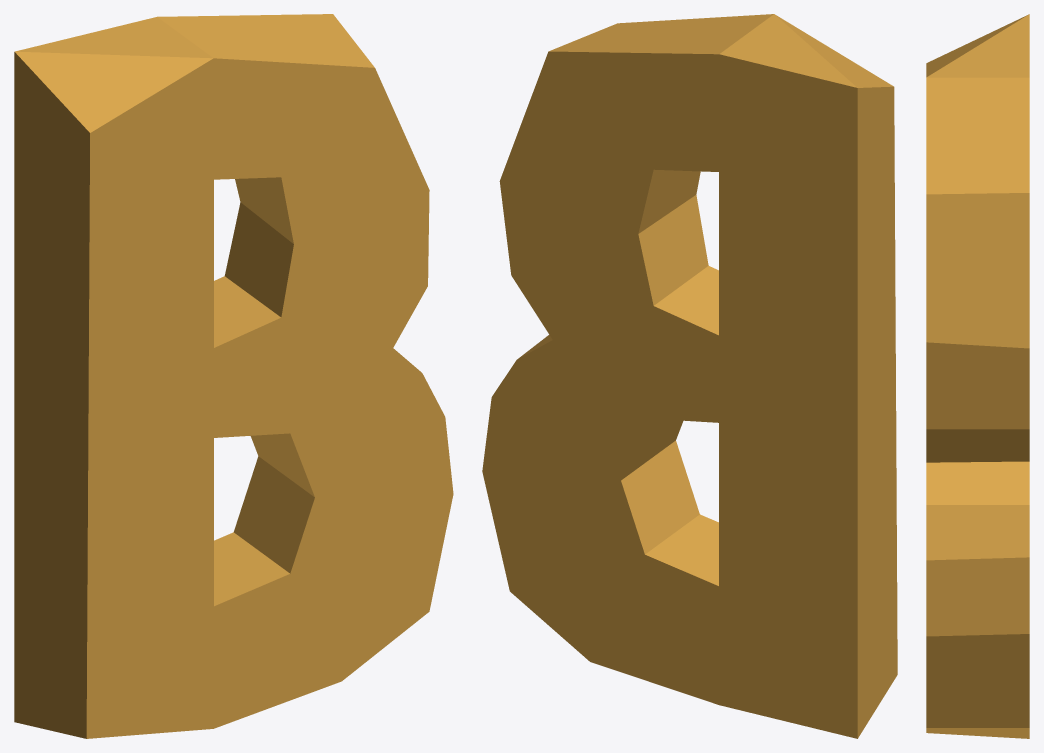
The model's file is SM_Sign_3dText_Letter_B.obj.
3 views of the same model, side by side, from view 1: azimuth 30°, elevation 25°; view 2: azimuth 150°, elevation 25°; view 3: azimuth 270°, elevation 25° (orthographic). The views are drawn at different scales.
Visible parts, largest first — view 1: SM_Sign_3dText_Letter_B_0; view 2: SM_Sign_3dText_Letter_B_0; view 3: SM_Sign_3dText_Letter_B_0.
Boxes of the visible parts, x1,y1,x2,y2 form: SM_Sign_3dText_Letter_B_0: [14, 14, 453, 738]; SM_Sign_3dText_Letter_B_0: [482, 14, 897, 738]; SM_Sign_3dText_Letter_B_0: [926, 14, 1029, 738].
Bounding box in the file's own units: 0.4309 × 0.7139 × 0.1093.
1 material, 1 textured.
